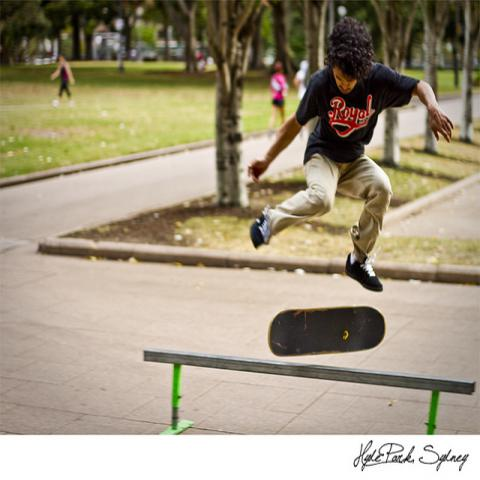car: (142, 52, 157, 60)
